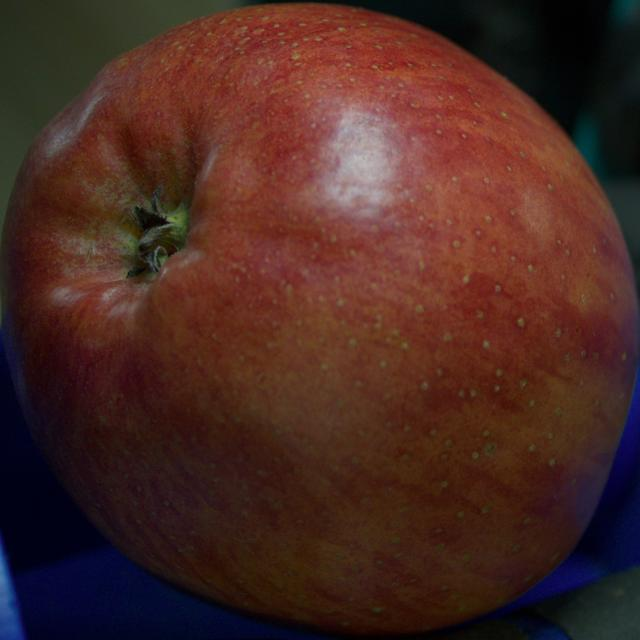apple: (1, 4, 639, 635)
